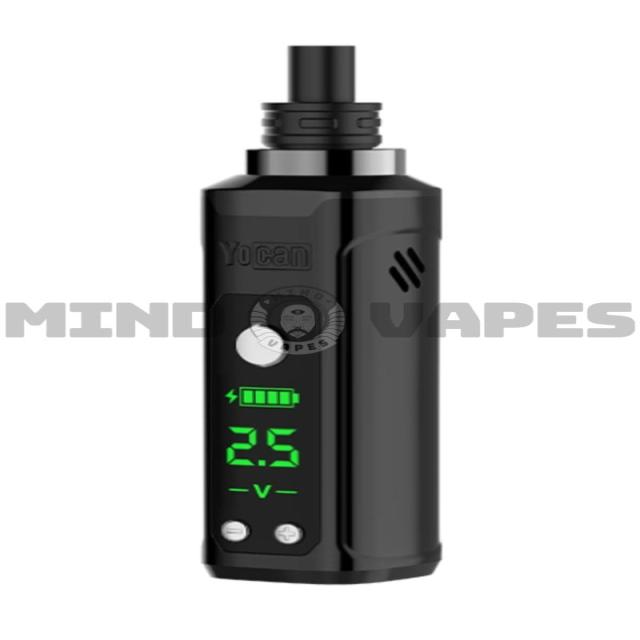Vape-images: (199, 44, 443, 585)
